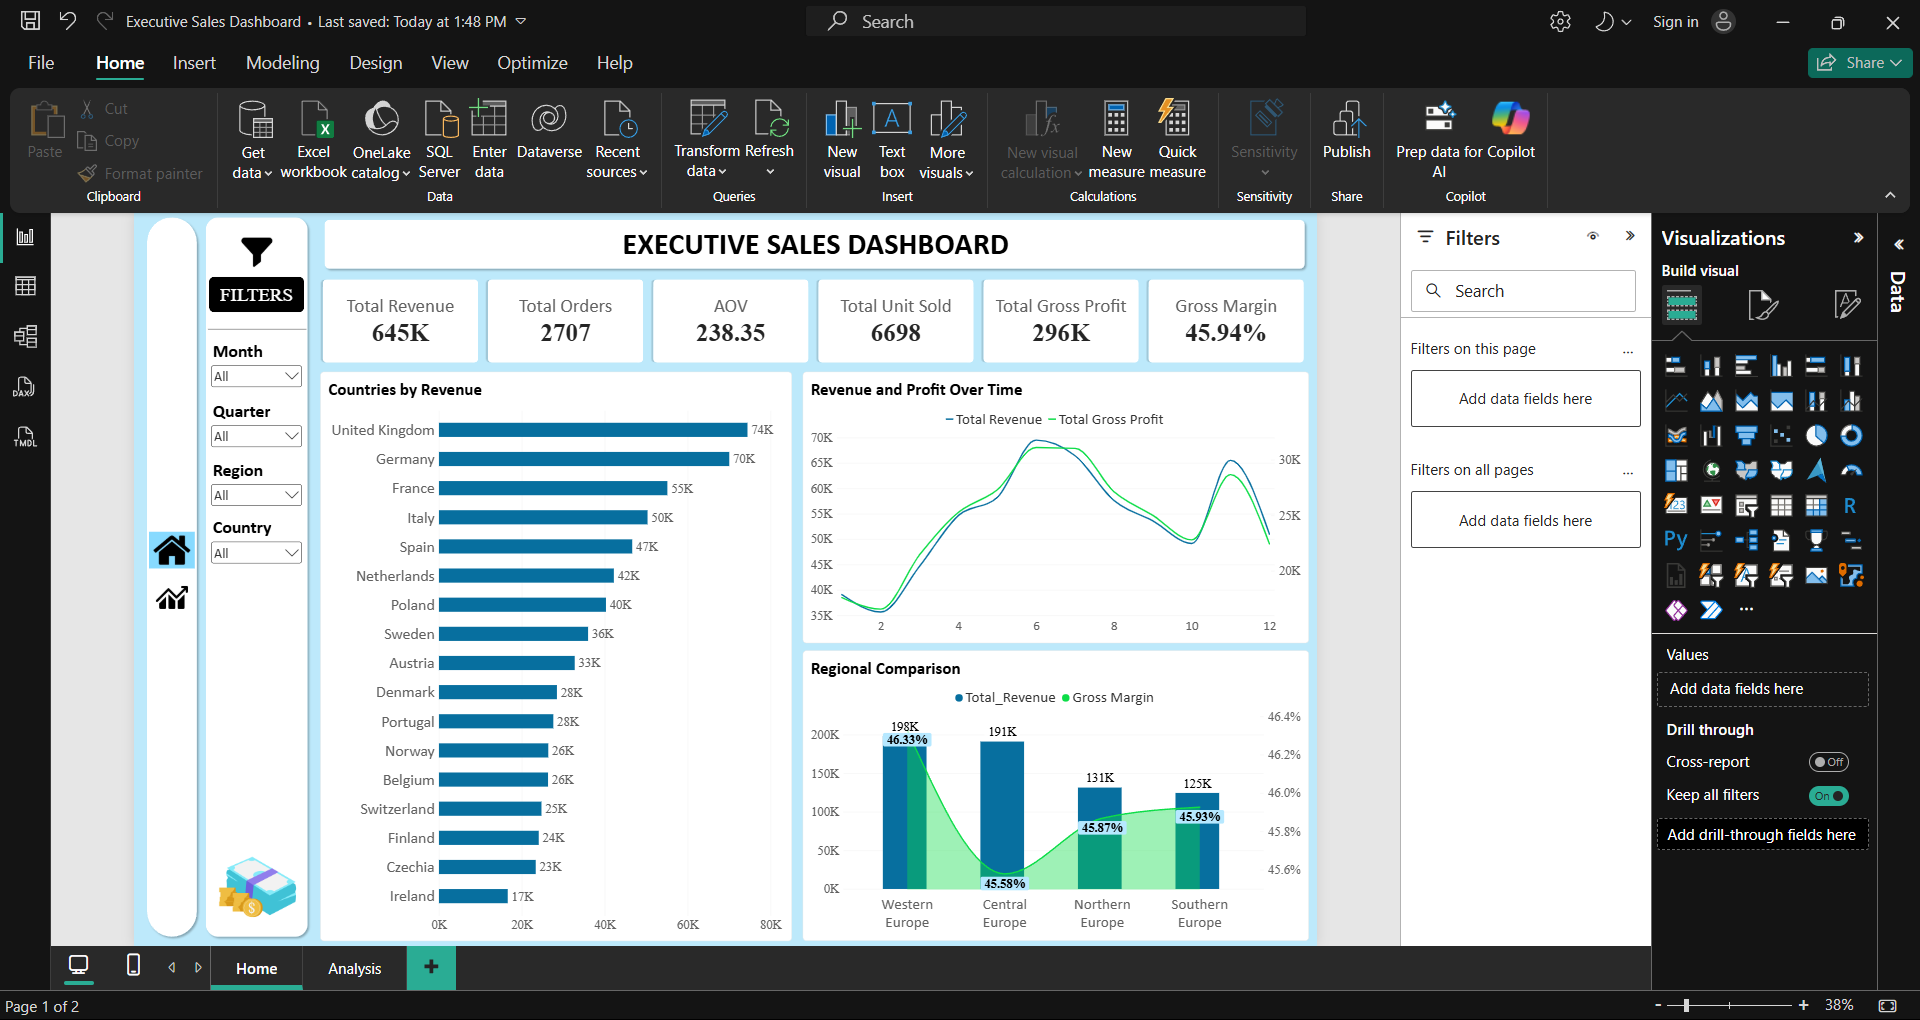

What the dashboard file says about the page in this screenshot:
{"tool":"powerbi","page":{"name":"Home","canvas":[2500,1550],"ordinal":0},"visuals":[{"type":"shape","box":[142,0,233.2,1538.4],"z":0},{"type":"slicer","fields":{"Values":["Date_Table.Quarter"]},"box":[158.1,396.7,201,112.6],"z":0,"group":"g1"},{"type":"shape","box":[18.8,0,123.3,1538.4],"z":1000},{"type":"slicer","fields":{"Values":["Date_Table.Month_Name"]},"box":[158.1,270.7,201,112.6],"z":1000,"group":"g1"},{"type":"cardVisual","fields":{"Data":["ALL Measures.Total_Revenue","ALL Measures.Total Orders","ALL Measures.AOV","ALL Measures.Total Unit Sold","ALL Measures.Total Gross Profit","ALL Measures.Gross Margin"]},"box":[394,134,2087.8,187.6],"z":2000},{"type":"slicer","fields":{"Values":["SalesDataTable.Country"]},"box":[158.1,643.2,201,107.2],"z":2000,"group":"g1"},{"type":"lineChart","title":"Revenue and Profit Over Time","fields":{"Category":["Date_Table.Month_Number"],"Y":["ALL Measures.Total_Revenue"],"Y2":["ALL Measures.Total Gross Profit"]},"box":[1412.4,335,1069.4,573.5],"z":3000},{"type":"slicer","fields":{"Values":["SalesDataTable.Region"]},"box":[158.1,522.6,201,107.2],"z":3000,"group":"g1"},{"type":"image","box":[32.2,672.7,96.5,77.7],"z":4000},{"type":"clusteredBarChart","title":"Countries by Revenue","fields":{"Category":["SalesDataTable.Country"],"Y":["ALL Measures.Total_Revenue"]},"box":[394,335,997,1203.4],"z":5000},{"type":"lineClusteredColumnComboChart","title":"Regional Comparison","fields":{"Category":["SalesDataTable.Region"],"Y":["ALL Measures.Total_Revenue"],"Y2":["ALL Measures.Gross Margin"]},"box":[1412.4,924.6,1069.4,613.7],"z":6000},{"type":"shape","box":[155.4,238.5,209,16.1],"z":7000},{"type":"image","box":[32.2,769.2,96.5,77.7],"z":8000},{"type":"image","box":[211.7,42.9,96.5,77.7],"z":9000},{"type":"shape","box":[158.1,134,201,75],"z":10000},{"type":"group","id":"g1","title":"Group 1","box":[158.1,270.7,201,479.7],"z":11000},{"type":"image","box":[168.8,1329.3,184.9,190.3],"z":12000},{"type":"shape","box":[393.6,5.3,2089.4,121.5],"z":13000}]}

Visuals, with their boxes on the page's 2500x1550 design canvas (x1, y1, x2, y2). These are canvas units, not pixel positions in the 1920x1020 screenshot, which may show the page scaled, cropped or inside an application window:
shape: (x1=142, y1=0, x2=375, y2=1538)
slicer - Date_Table.Quarter: (x1=158, y1=397, x2=359, y2=509)
shape: (x1=19, y1=0, x2=142, y2=1538)
slicer - Date_Table.Month_Name: (x1=158, y1=271, x2=359, y2=383)
cardVisual - ALL Measures.Total_Revenue x ALL Measures.Total Orders: (x1=394, y1=134, x2=2482, y2=322)
slicer - SalesDataTable.Country: (x1=158, y1=643, x2=359, y2=750)
"Revenue and Profit Over Time" lineChart: (x1=1412, y1=335, x2=2482, y2=908)
slicer - SalesDataTable.Region: (x1=158, y1=523, x2=359, y2=630)
image: (x1=32, y1=673, x2=129, y2=750)
"Countries by Revenue" clusteredBarChart: (x1=394, y1=335, x2=1391, y2=1538)
"Regional Comparison" lineClusteredColumnComboChart: (x1=1412, y1=925, x2=2482, y2=1538)
shape: (x1=155, y1=238, x2=364, y2=255)
image: (x1=32, y1=769, x2=129, y2=847)
image: (x1=212, y1=43, x2=308, y2=121)
shape: (x1=158, y1=134, x2=359, y2=209)
"Group 1" group: (x1=158, y1=271, x2=359, y2=750)
image: (x1=169, y1=1329, x2=354, y2=1520)
shape: (x1=394, y1=5, x2=2483, y2=127)
